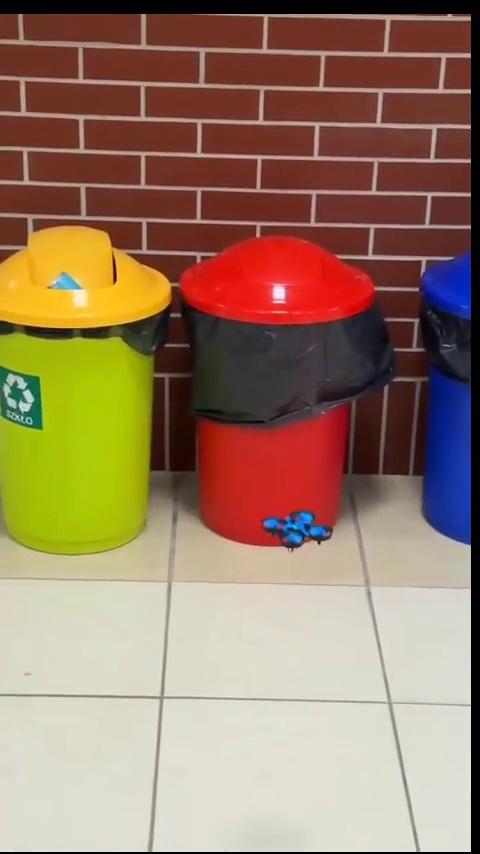drone: (263, 512, 331, 546)
